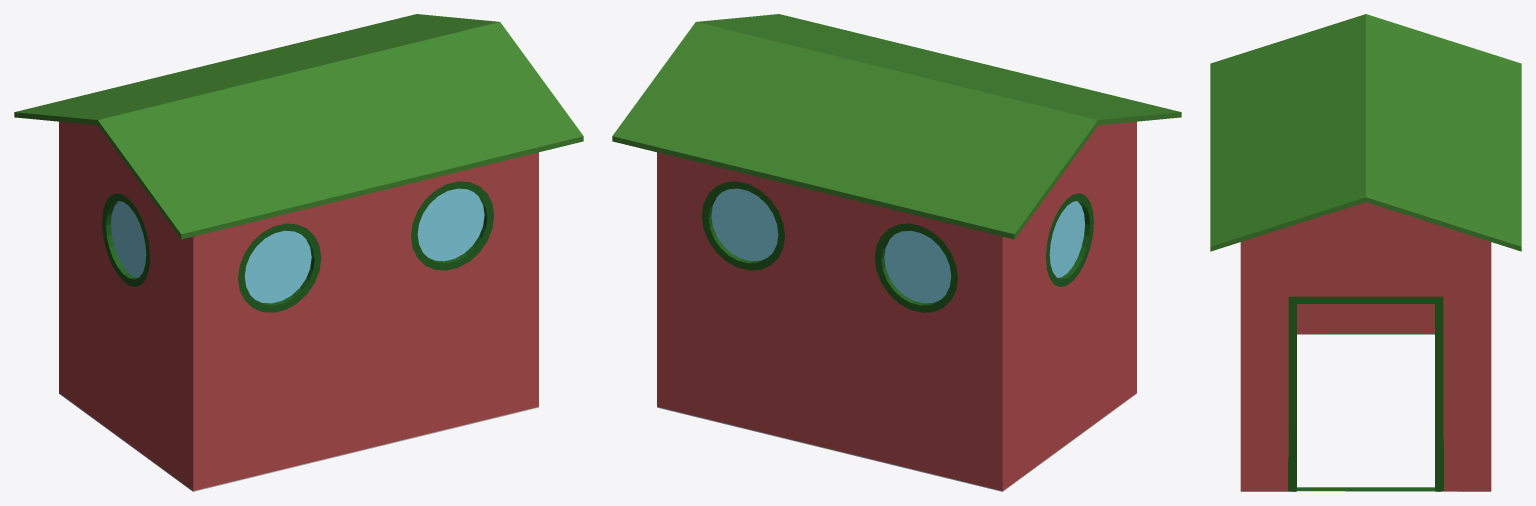
The model's file is hangar1.fbx.
The picture shows the model from 3 angles, left to right: view 1: azimuth 30°, elevation 25°; view 2: azimuth 150°, elevation 25°; view 3: azimuth 270°, elevation 25°; orthographic projection. The views are drawn at different scales.
Parts seen in each view (by area): view 1: building_001; view 2: building_001; view 3: building_001.
Part boxes in pixels (<box>): building_001: <box>14,14,583,491</box>; building_001: <box>612,14,1181,491</box>; building_001: <box>1210,14,1521,491</box>.
Size of the model in its own units: 483 by 378 by 347.
